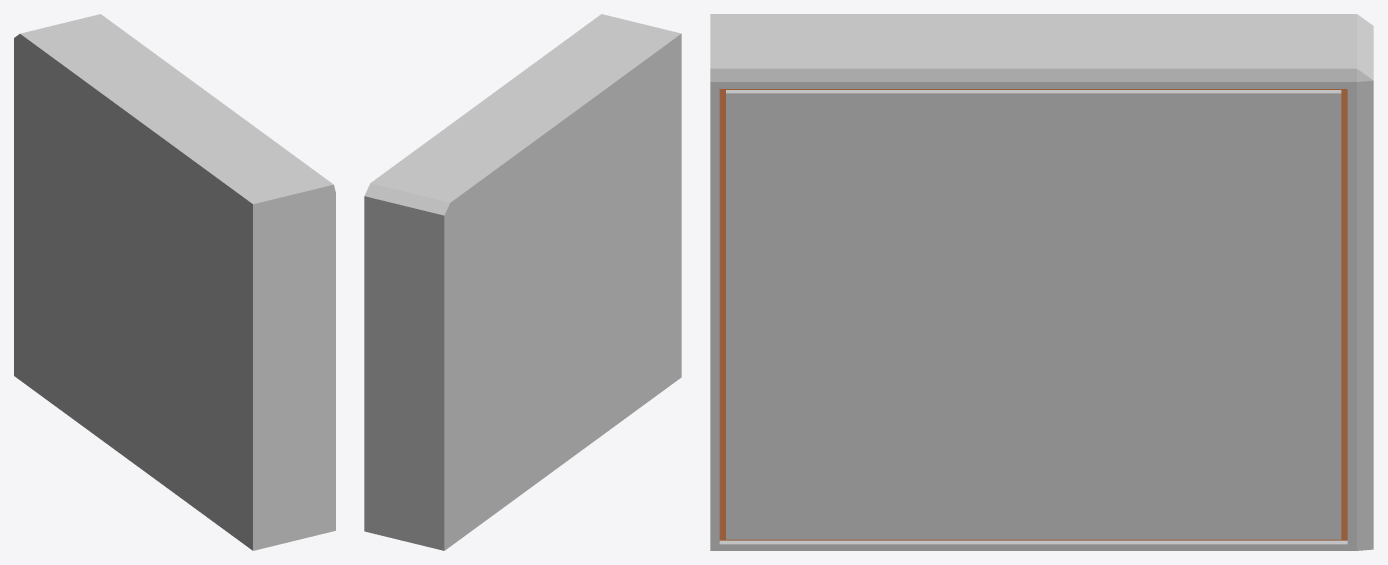
The model's file is MachineArm.fbx.
The picture shows the model from 3 angles, left to right: view 1: azimuth 30°, elevation 25°; view 2: azimuth 150°, elevation 25°; view 3: azimuth 270°, elevation 25°; orthographic projection. The views are drawn at different scales.
Parts seen in each view (by area): view 1: Cube; view 2: Cube; view 3: Cube.
Boxes of the visible parts, x1=… form: Cube: x1=14, y1=14, x2=335, y2=550; Cube: x1=364, y1=14, x2=681, y2=550; Cube: x1=710, y1=14, x2=1373, y2=550.
Size of the model in its own units: 100 by 400 by 500.
